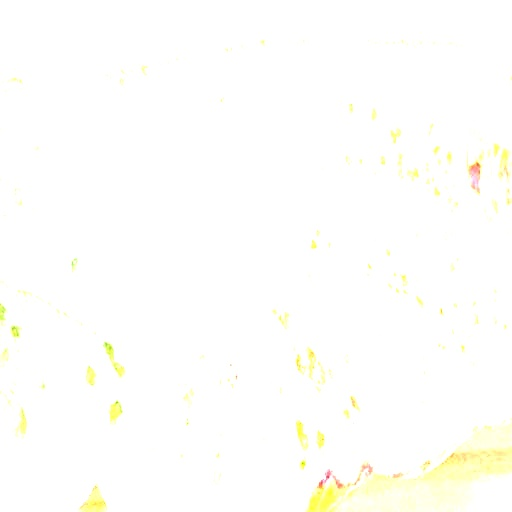Angular Leafspot: (0, 34, 511, 511)
